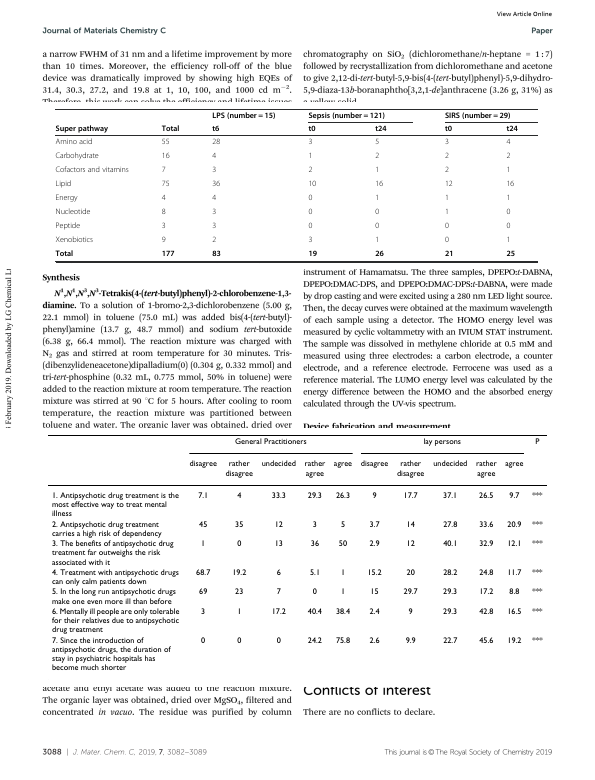borderless: (46, 433, 548, 681), (54, 107, 537, 261)
cell: (50, 636, 171, 673), (50, 607, 180, 635), (50, 491, 179, 519), (50, 539, 174, 568), (50, 587, 176, 607), (50, 568, 179, 587), (50, 520, 162, 539), (55, 165, 130, 175), (233, 437, 307, 447), (307, 111, 386, 120), (444, 111, 511, 120), (211, 111, 276, 120), (395, 460, 425, 479), (224, 460, 253, 479), (55, 124, 109, 134), (55, 151, 100, 161), (303, 460, 326, 479), (474, 460, 497, 479), (422, 437, 461, 447), (55, 235, 94, 245), (55, 137, 93, 147), (55, 207, 91, 217), (260, 460, 296, 469), (432, 460, 468, 469), (359, 460, 389, 469), (188, 460, 217, 469), (55, 221, 81, 231), (55, 193, 78, 203), (161, 124, 180, 134), (55, 249, 74, 259), (332, 460, 353, 469), (504, 460, 524, 469), (334, 607, 351, 617), (334, 636, 351, 646), (55, 179, 72, 189), (270, 491, 286, 501), (306, 491, 322, 501), (334, 491, 350, 501), (402, 491, 418, 501), (442, 491, 458, 501), (478, 491, 494, 501), (442, 520, 458, 530), (478, 520, 494, 530), (506, 520, 522, 530), (442, 539, 458, 549), (478, 539, 494, 549), (506, 539, 522, 549), (195, 568, 211, 578), (231, 568, 247, 578), (366, 568, 382, 578), (442, 568, 458, 578), (478, 568, 494, 578), (506, 568, 522, 578), (402, 587, 418, 597), (442, 587, 458, 597), (478, 587, 494, 597), (270, 607, 286, 617), (306, 607, 322, 617), (442, 607, 458, 617), (478, 607, 494, 617), (506, 607, 522, 617), (306, 636, 322, 646), (442, 636, 458, 646), (478, 636, 494, 646), (506, 636, 522, 646), (374, 124, 388, 134), (505, 124, 519, 134), (161, 249, 175, 259), (197, 491, 209, 501), (508, 491, 520, 501), (531, 491, 543, 501), (368, 520, 380, 530), (531, 520, 543, 530), (368, 539, 380, 549), (531, 539, 543, 549), (308, 568, 320, 578), (531, 568, 543, 578), (508, 587, 520, 597), (531, 587, 543, 597), (368, 607, 380, 617), (531, 607, 543, 617), (368, 636, 380, 646), (404, 636, 416, 646), (531, 636, 543, 646), (309, 539, 320, 549), (337, 539, 348, 549), (211, 249, 222, 259), (307, 249, 318, 259), (374, 249, 385, 259), (505, 249, 516, 259), (198, 520, 208, 530), (234, 520, 244, 530), (273, 520, 283, 530), (405, 520, 415, 530), (273, 539, 283, 549), (405, 539, 415, 549), (405, 568, 415, 578), (198, 587, 208, 597), (234, 587, 244, 597), (369, 587, 379, 597), (211, 137, 221, 147), (211, 179, 221, 189), (307, 179, 317, 189), (374, 179, 384, 189), (444, 179, 454, 189), (505, 179, 515, 189), (444, 249, 454, 259), (211, 124, 220, 134), (307, 124, 316, 134), (444, 124, 453, 134), (161, 137, 170, 147), (161, 151, 170, 161), (161, 179, 170, 189), (339, 520, 346, 530), (339, 568, 346, 578), (339, 587, 346, 597), (534, 437, 540, 447), (236, 491, 242, 501), (371, 491, 377, 501), (311, 520, 317, 530), (200, 539, 206, 549), (236, 539, 242, 549), (275, 568, 281, 578), (275, 587, 281, 597), (311, 587, 317, 597), (200, 607, 206, 617), (236, 607, 242, 617), (407, 607, 413, 617), (200, 636, 206, 646), (236, 636, 242, 646), (275, 636, 281, 646), (307, 137, 313, 147), (374, 137, 380, 147), (444, 137, 450, 147), (505, 137, 511, 147), (211, 151, 217, 161), (307, 151, 313, 161), (374, 151, 380, 161), (444, 151, 450, 161), (505, 151, 511, 161), (161, 165, 167, 175), (211, 165, 217, 175), (307, 165, 313, 175), (374, 165, 380, 175), (444, 165, 450, 175), (505, 165, 511, 175), (161, 193, 167, 203), (211, 193, 217, 203), (307, 193, 313, 203), (374, 193, 380, 203), (444, 193, 450, 203), (505, 193, 511, 203), (161, 207, 167, 217), (211, 207, 217, 217), (307, 207, 313, 217), (374, 207, 380, 217), (444, 207, 450, 217), (505, 207, 511, 217), (161, 221, 167, 231), (211, 221, 217, 231), (307, 221, 313, 231), (374, 221, 380, 231), (444, 221, 450, 231), (505, 221, 511, 231), (161, 235, 167, 245), (211, 235, 217, 245), (307, 235, 313, 245), (374, 235, 380, 245), (444, 235, 450, 245), (505, 235, 511, 245)
